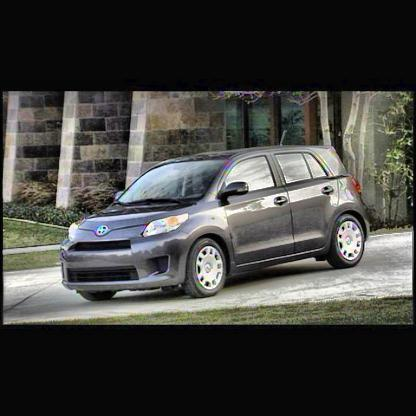Scion xD Hatchback 2012: (58, 145, 372, 306)
